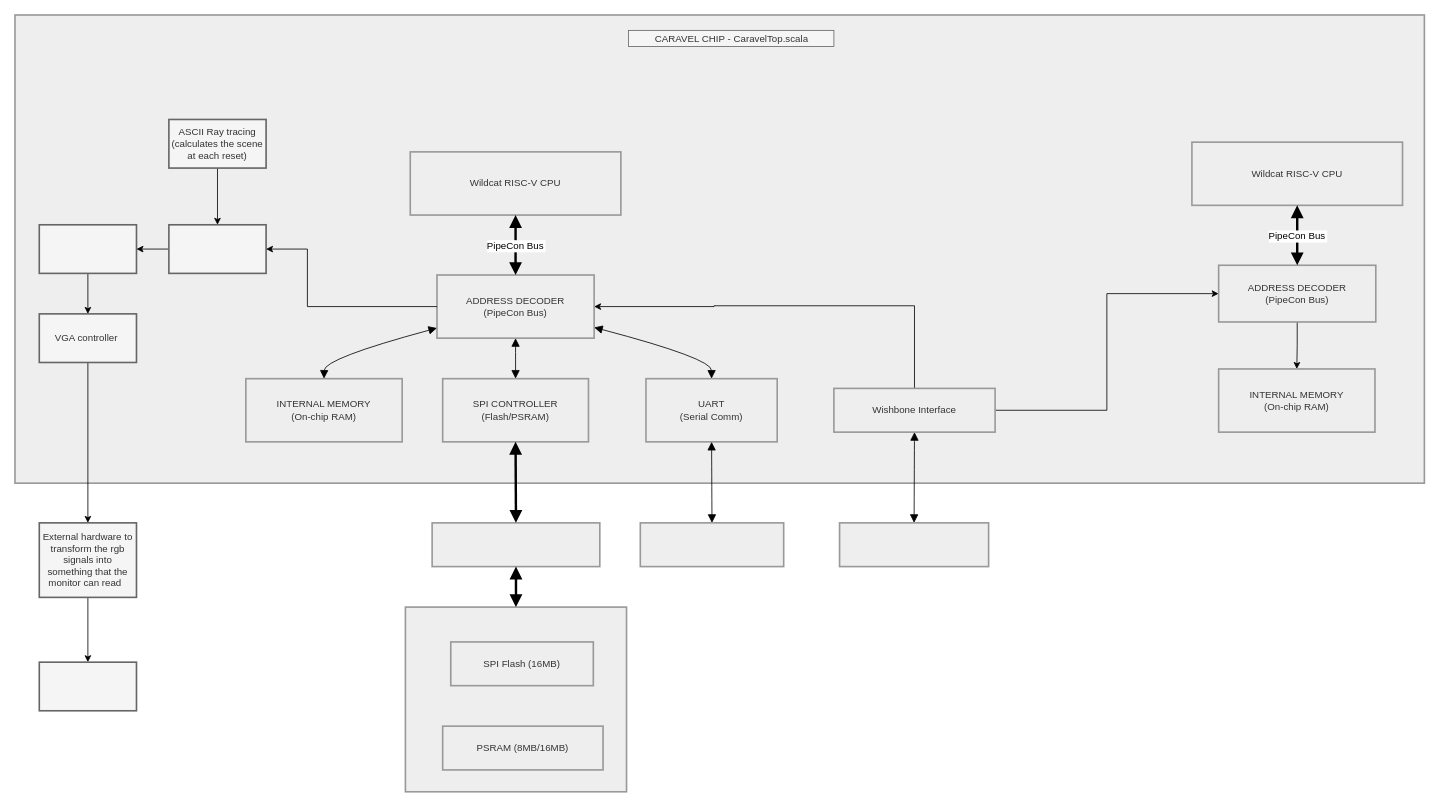
Image size: 1439x806. Some labels were removed from this diagram. Here are the shapes that lost their labels. From the top down, the box of each, then its label:
(38, 224, 137, 274): Buffer
(168, 224, 266, 274): Multiplexer
(431, 522, 600, 567): PMOD Pins (uio[7:0])
(639, 522, 784, 567): UART Pins (gpio)
(838, 522, 989, 567): Caravel Host CPU
(38, 661, 137, 711): Monitor
(404, 606, 627, 792): PMOD Board
